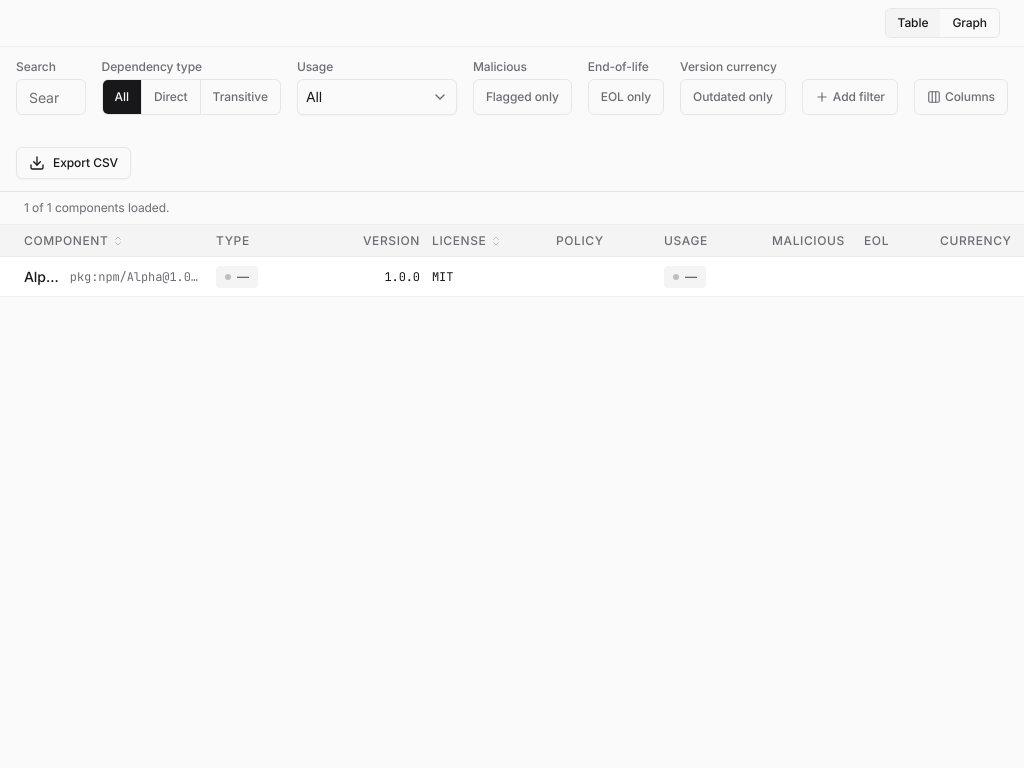
Test: ComponentsTab › clicking a row opens the drawer and fetches the detail
Expected: the row with test id "component-row" is shown, [0,257,1023,297]
What coordinates should you click on to do the following:
click the button with test id "component-row-open"
I would click on:
 (43, 276)
Its box is [24,266,62,286].
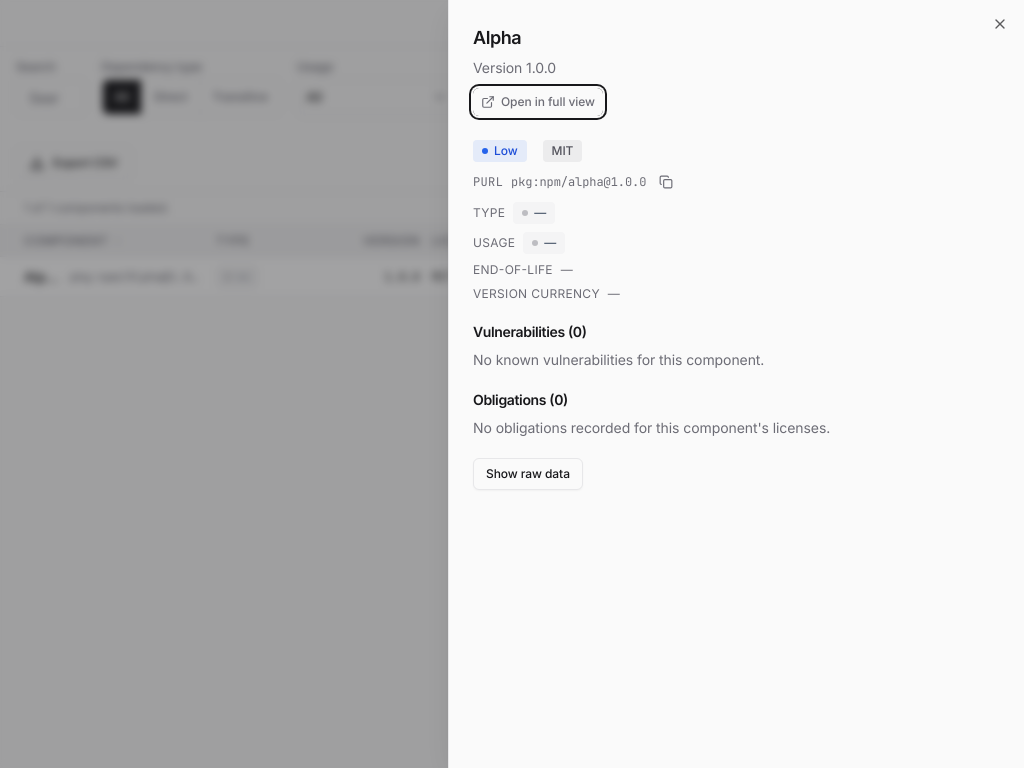
Expected: the dialog with test id "component-drawer" is shown, [448,0,1023,767]
Expected: the element with test id "component-drawer-meta" is shown, [473,140,678,301]
